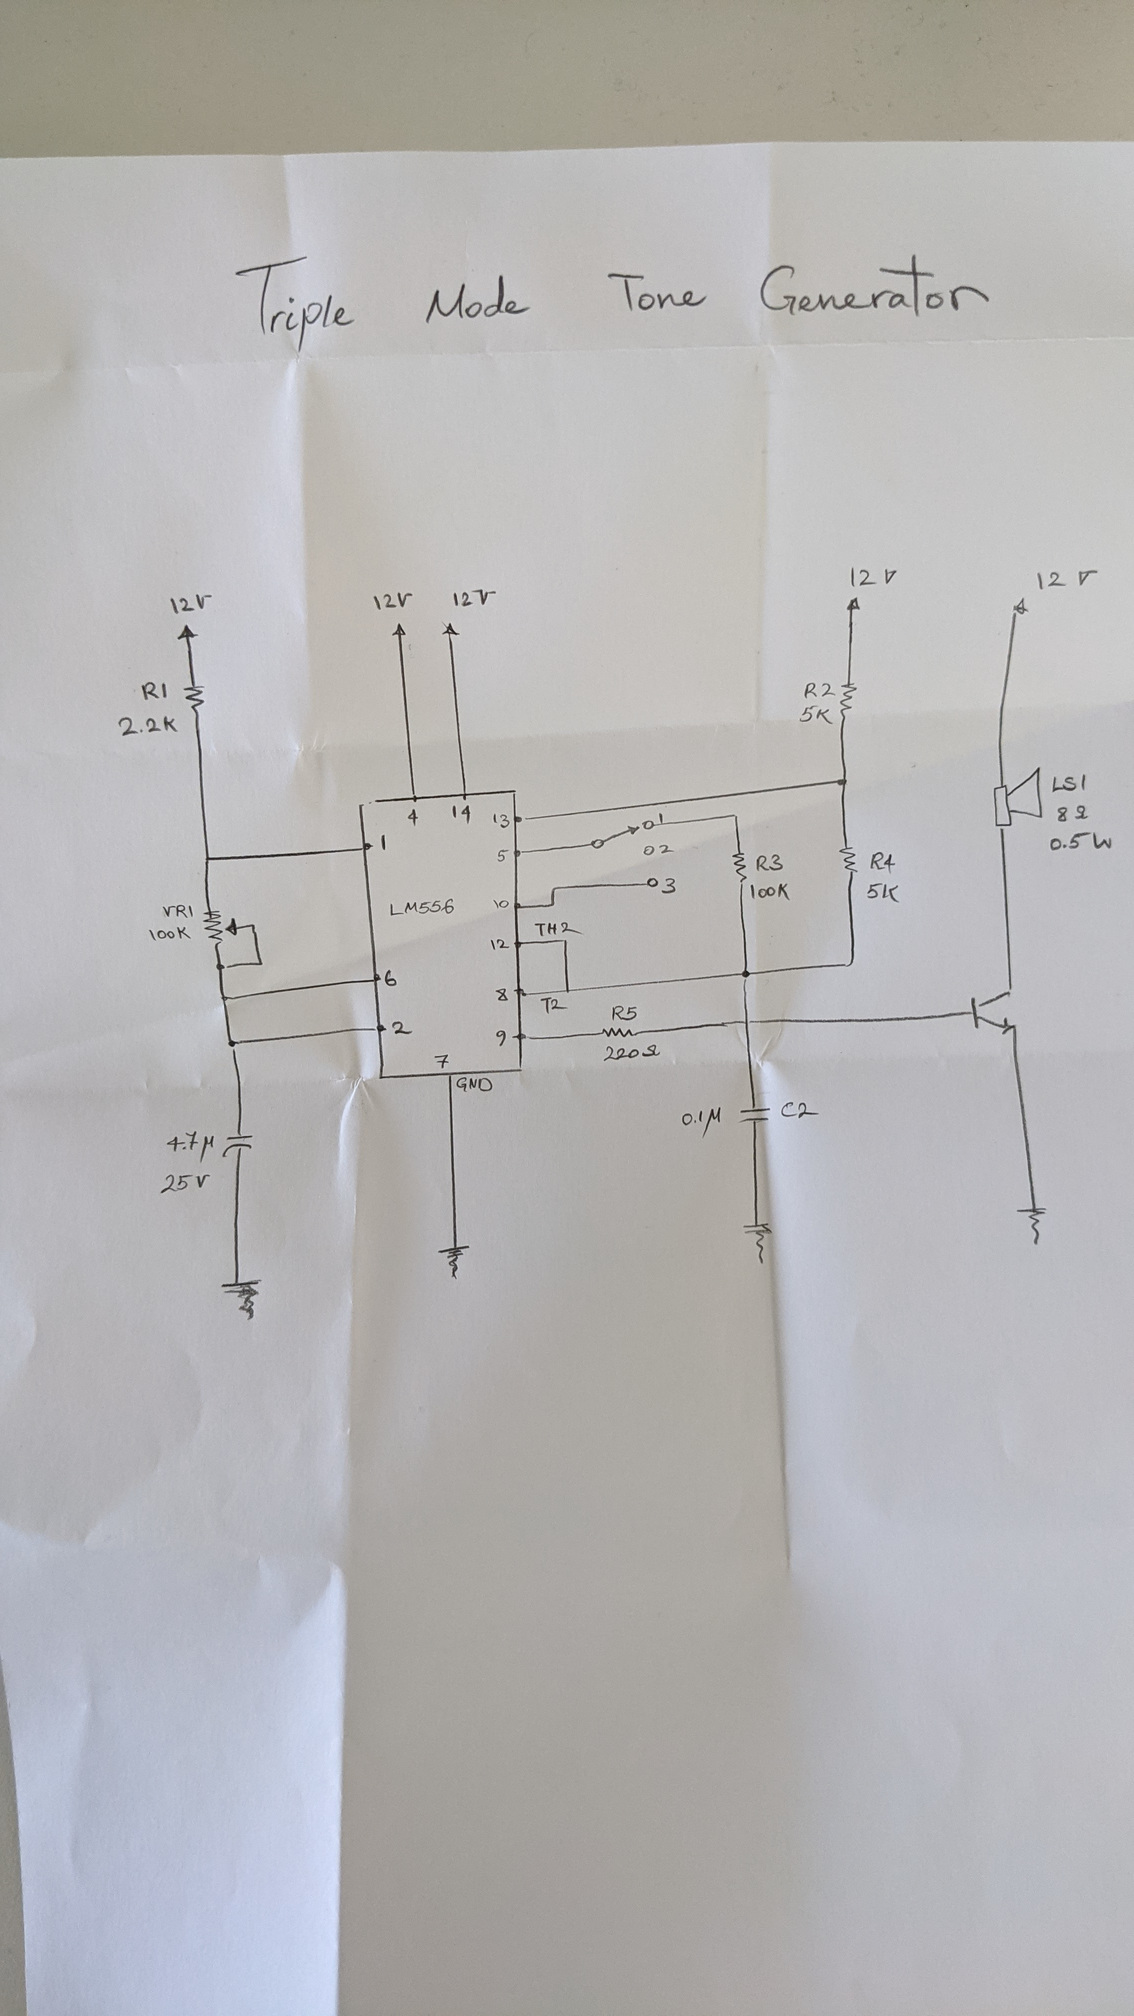capacitor.unpolarized: (220, 1131, 256, 1160), (737, 1104, 775, 1127)
crossover: (739, 1016, 755, 1027)
gnd: (219, 1277, 266, 1322), (739, 1220, 777, 1266), (1014, 1205, 1052, 1248), (435, 1243, 472, 1279)
integrated_circuit: (356, 788, 530, 1081)
junction: (835, 774, 852, 791), (226, 1037, 244, 1051), (739, 966, 753, 983), (215, 961, 231, 972), (219, 994, 233, 1007), (845, 957, 857, 971), (248, 919, 260, 932), (255, 957, 269, 968), (562, 984, 575, 996), (550, 883, 562, 894), (558, 936, 570, 946), (730, 810, 742, 820), (202, 854, 213, 864), (546, 899, 557, 908)
resistor: (181, 683, 212, 719), (836, 678, 858, 721), (836, 845, 861, 879), (730, 850, 750, 888), (597, 1025, 638, 1041)
resistor.adjustable: (201, 908, 240, 947)
speaker: (990, 764, 1045, 832)
switch: (590, 818, 656, 857)
terminal: (647, 875, 659, 889)
text: (233, 251, 996, 359), (163, 1128, 217, 1164), (1048, 828, 1117, 854), (116, 713, 181, 738), (388, 896, 457, 918), (1034, 568, 1099, 591), (680, 1106, 726, 1140), (158, 1171, 213, 1195), (847, 564, 899, 588), (168, 593, 215, 616), (748, 881, 793, 904), (602, 1043, 662, 1061), (451, 587, 498, 609), (533, 919, 586, 937), (1052, 802, 1092, 825), (865, 881, 901, 906), (371, 590, 414, 611), (780, 1099, 821, 1120), (1050, 773, 1090, 793), (798, 703, 835, 726), (147, 925, 194, 942), (868, 850, 897, 876), (456, 1076, 494, 1094), (140, 680, 170, 702), (161, 901, 197, 919), (755, 852, 785, 872), (609, 1002, 640, 1023), (802, 681, 836, 699), (450, 802, 475, 827), (539, 996, 570, 1015), (390, 1019, 414, 1038), (490, 811, 511, 831), (384, 966, 402, 989), (489, 935, 510, 953), (404, 807, 422, 828), (660, 876, 678, 896), (433, 1051, 451, 1070), (493, 1029, 511, 1048), (493, 986, 512, 1004), (492, 894, 512, 911), (656, 842, 678, 856), (377, 832, 392, 852), (496, 847, 510, 864), (656, 809, 667, 825)
transistor: (965, 986, 1022, 1037)
vss: (174, 620, 199, 644), (1008, 595, 1032, 618), (438, 620, 462, 640), (390, 620, 413, 640), (845, 595, 864, 613)
